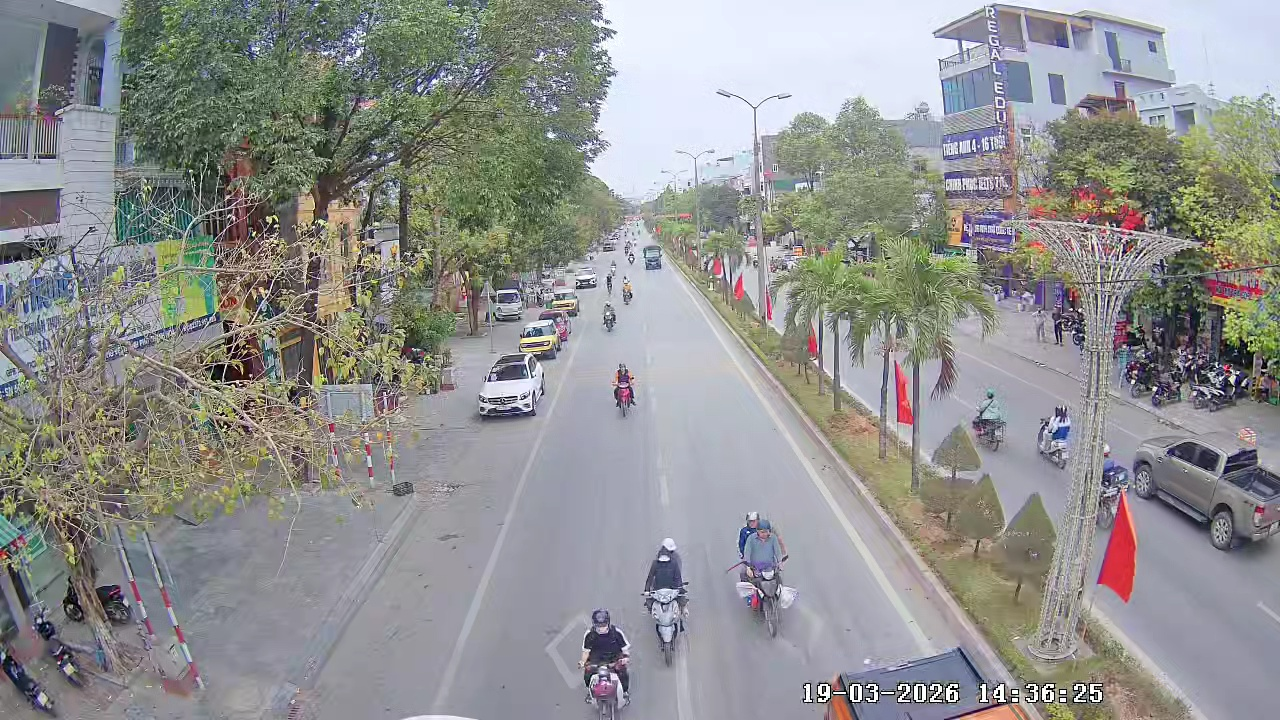car: (1131, 433, 1279, 548), (475, 353, 546, 419), (518, 314, 563, 361), (489, 283, 526, 322), (551, 285, 580, 317)
motorbike: (728, 510, 796, 638), (577, 607, 635, 719), (639, 536, 693, 645), (1036, 402, 1075, 470), (971, 387, 1009, 452), (610, 361, 637, 418), (643, 242, 663, 272), (601, 300, 617, 332), (621, 274, 635, 306)
